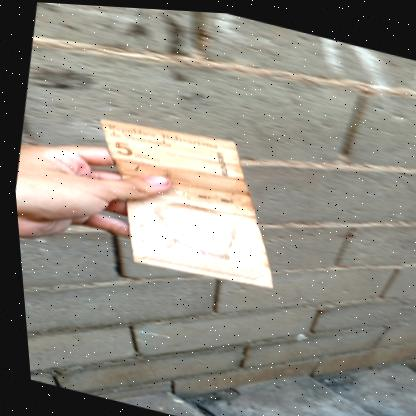five-front-vef: (70, 104, 296, 295)
